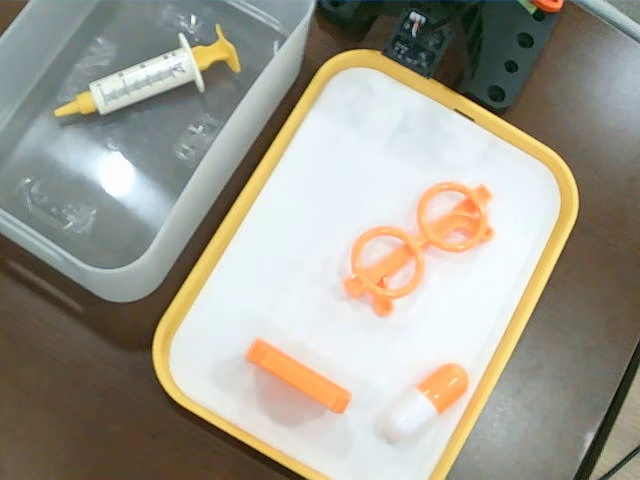pill: (381, 363, 471, 445)
syringe: (50, 21, 242, 121)
